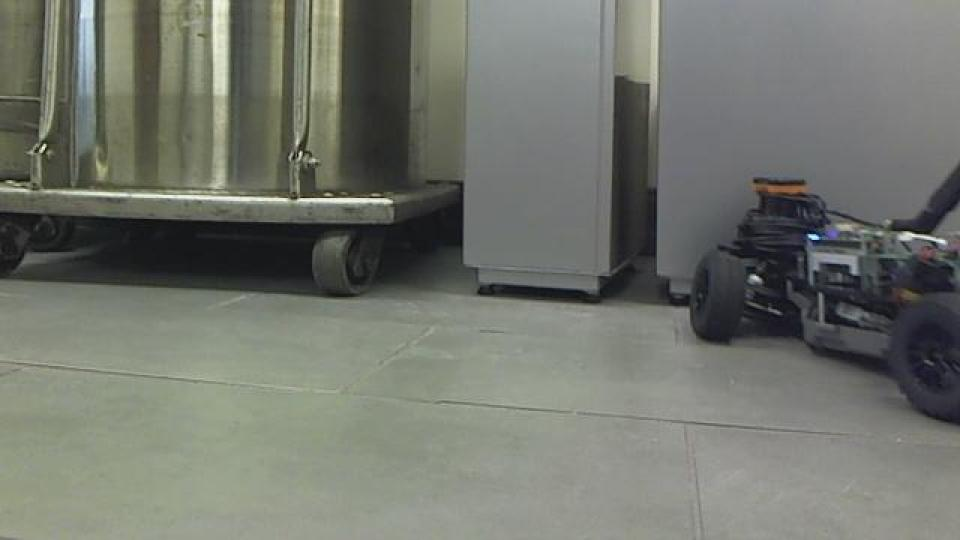car: (1, 0, 464, 298), (685, 162, 957, 424)
